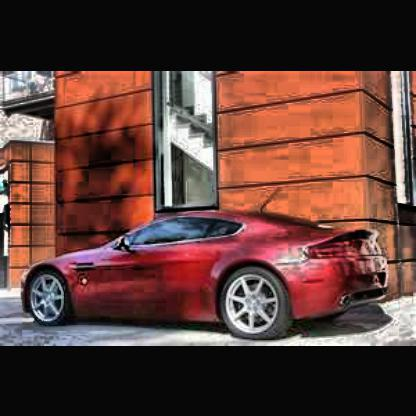Aston Martin V8 Vantage Coupe 2012: (20, 207, 399, 345)
